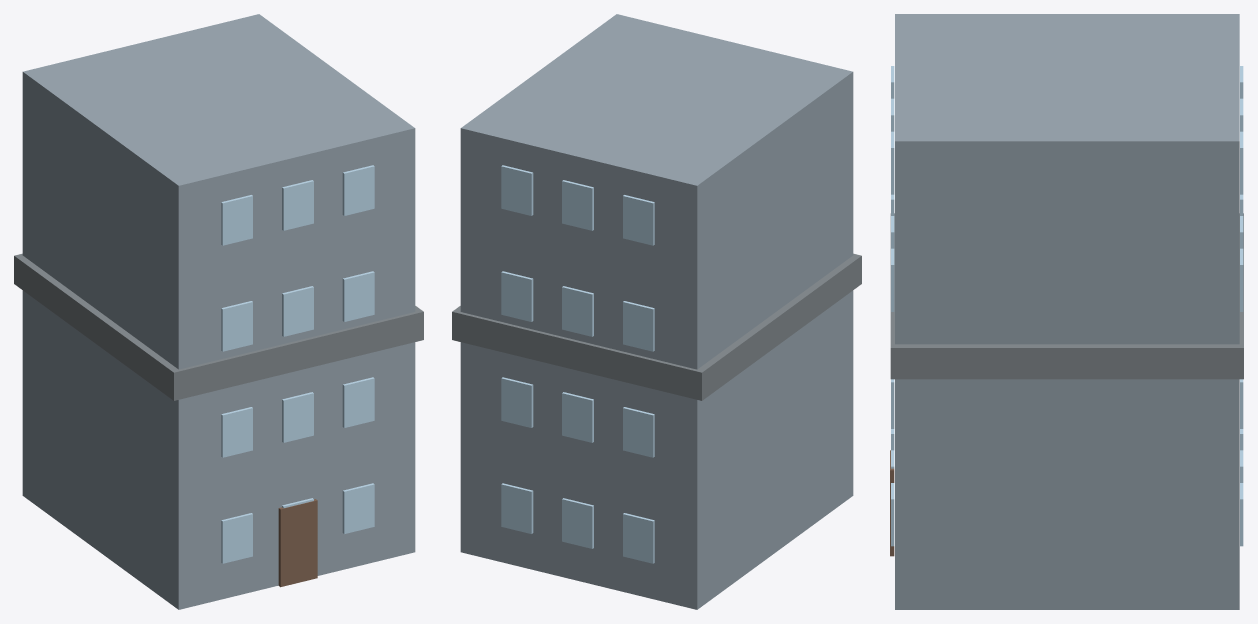
The model's file is building_1002.glb.
The picture shows the model from 3 angles, left to right: view 1: azimuth 30°, elevation 25°; view 2: azimuth 150°, elevation 25°; view 3: azimuth 270°, elevation 25°; orthographic projection. The views are drawn at different scales.
Visible parts, largest first — view 1: building_1002; view 2: building_1002; view 3: building_1002.
Part boxes in pixels (<box>): building_1002: <box>14,14,423,609</box>; building_1002: <box>452,14,861,609</box>; building_1002: <box>890,14,1243,609</box>.
Bounding box in the file's own units: 7.4 × 12 × 8.21.
